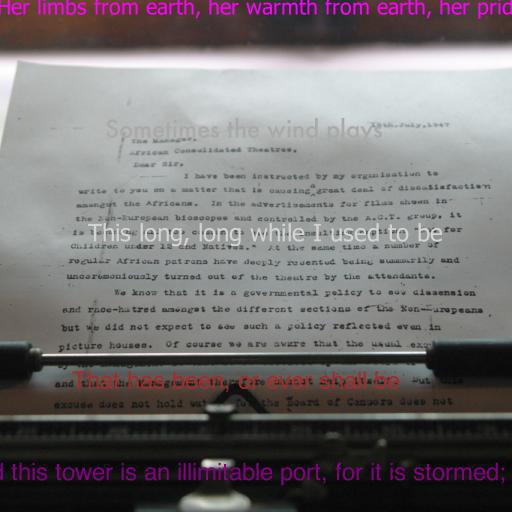Futura: (105, 117, 383, 144)
SF Pro: (72, 371, 400, 393)
SignPainter: (0, 462, 512, 486)
Tahoma: (0, 0, 512, 19), (87, 223, 443, 247)
